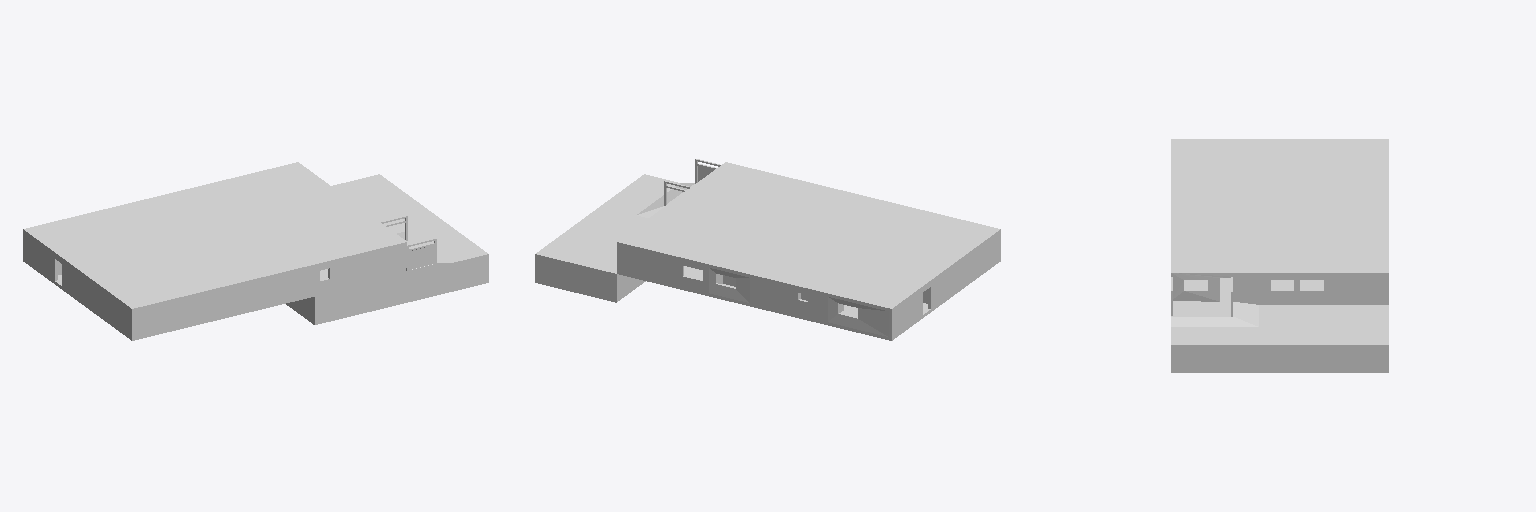
File: Haus01.obj
The picture shows the model from 3 angles: view 1: azimuth 30°, elevation 25°; view 2: azimuth 150°, elevation 25°; view 3: azimuth 270°, elevation 25°; orthographic projection.
Visible parts, largest first — view 1: Haus01; view 2: Haus01; view 3: Haus01.
Part boxes in pixels (x1,y1,x2,y2): Haus01: (23,162,488,340); Haus01: (535,159,1000,340); Haus01: (1171,139,1388,372).
Bounding box in the file's own units: 35 × 5.71 × 18.55.